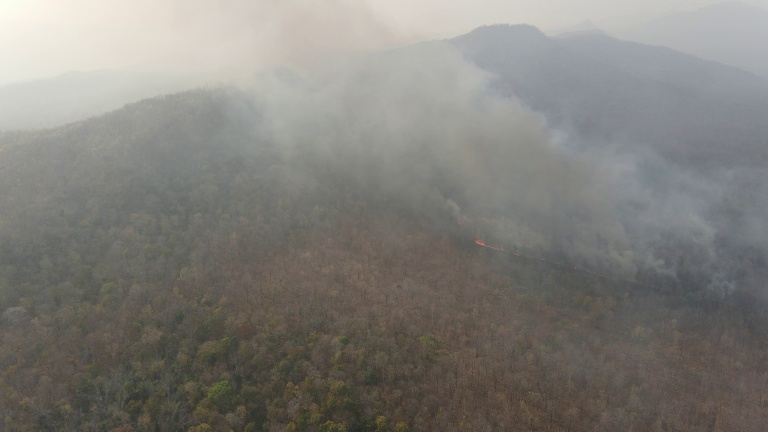fire: (553, 257, 622, 282), (470, 235, 517, 259)
smoke: (220, 2, 645, 253), (596, 144, 768, 290)
